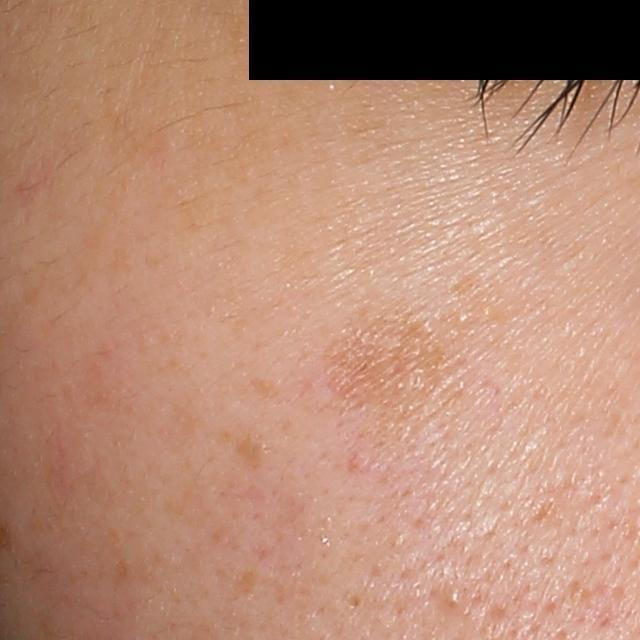comedo: (441, 586, 468, 621)
